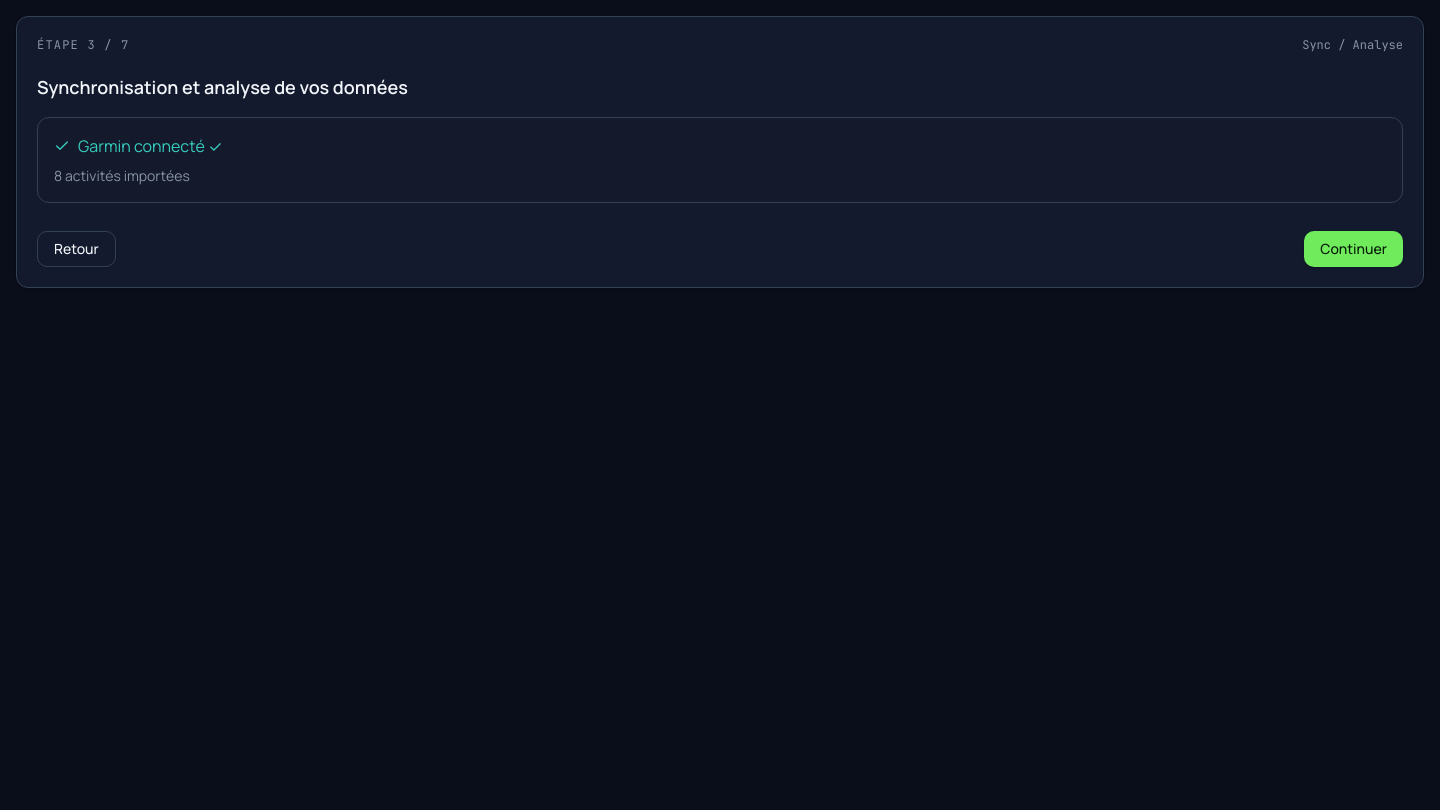
Test: Onboarding trial handoff › french trial status uses localized day countdown
The image size is (1440, 810).
Earlier steps of the test are not shown.
Check: the element with test id "onboarding-step-sync" is shown, box top-left (37, 73), bottom-right (1403, 203)
Click the button with test id "onboarding-continue". click: (1354, 249)
box: top-left (1304, 231), bottom-right (1403, 267)
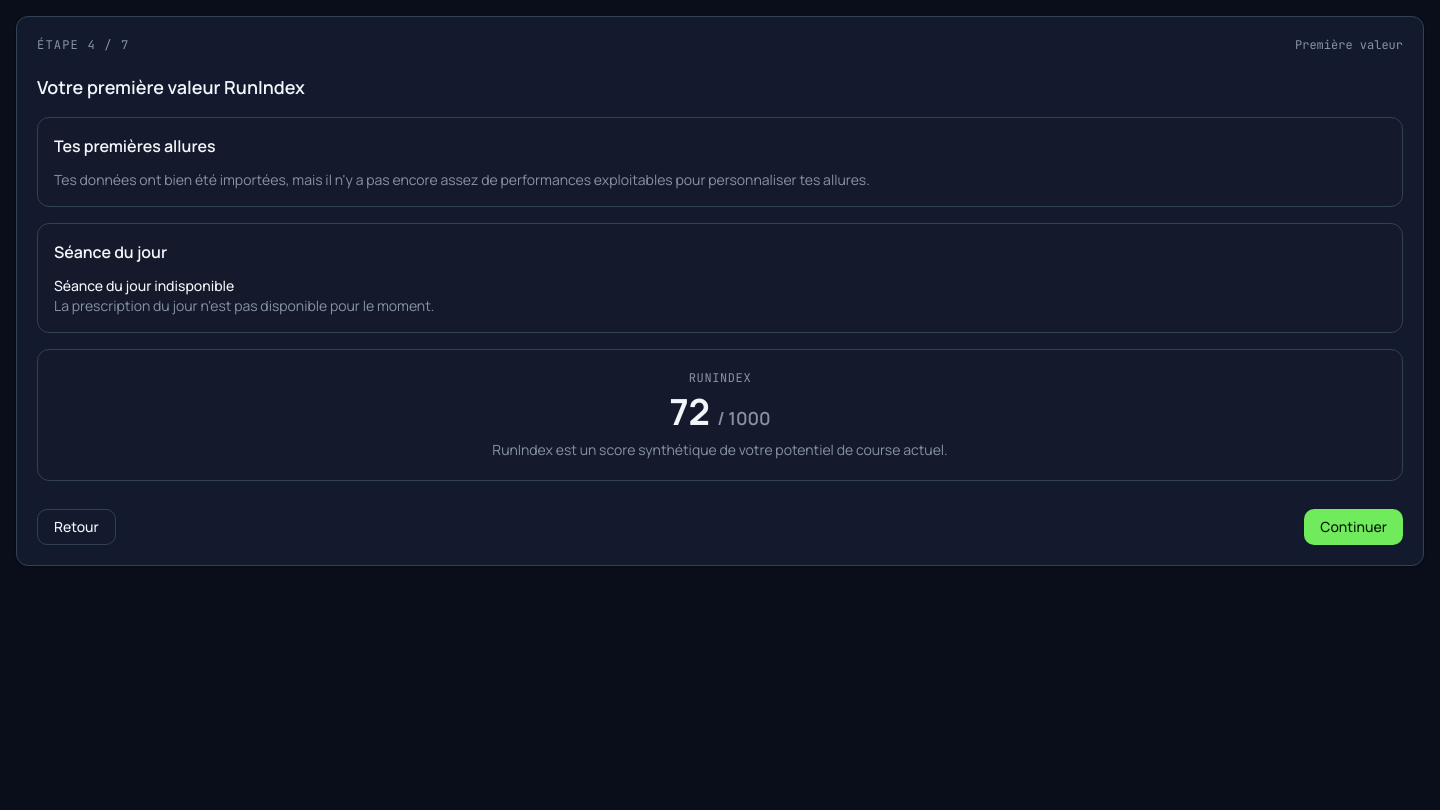
Check: the element with test id "onboarding-step-first-value" is shown, box top-left (37, 73), bottom-right (1403, 481)
Click the button with test id "onboarding-continue". click: (1354, 527)
box: top-left (1304, 509), bottom-right (1403, 545)
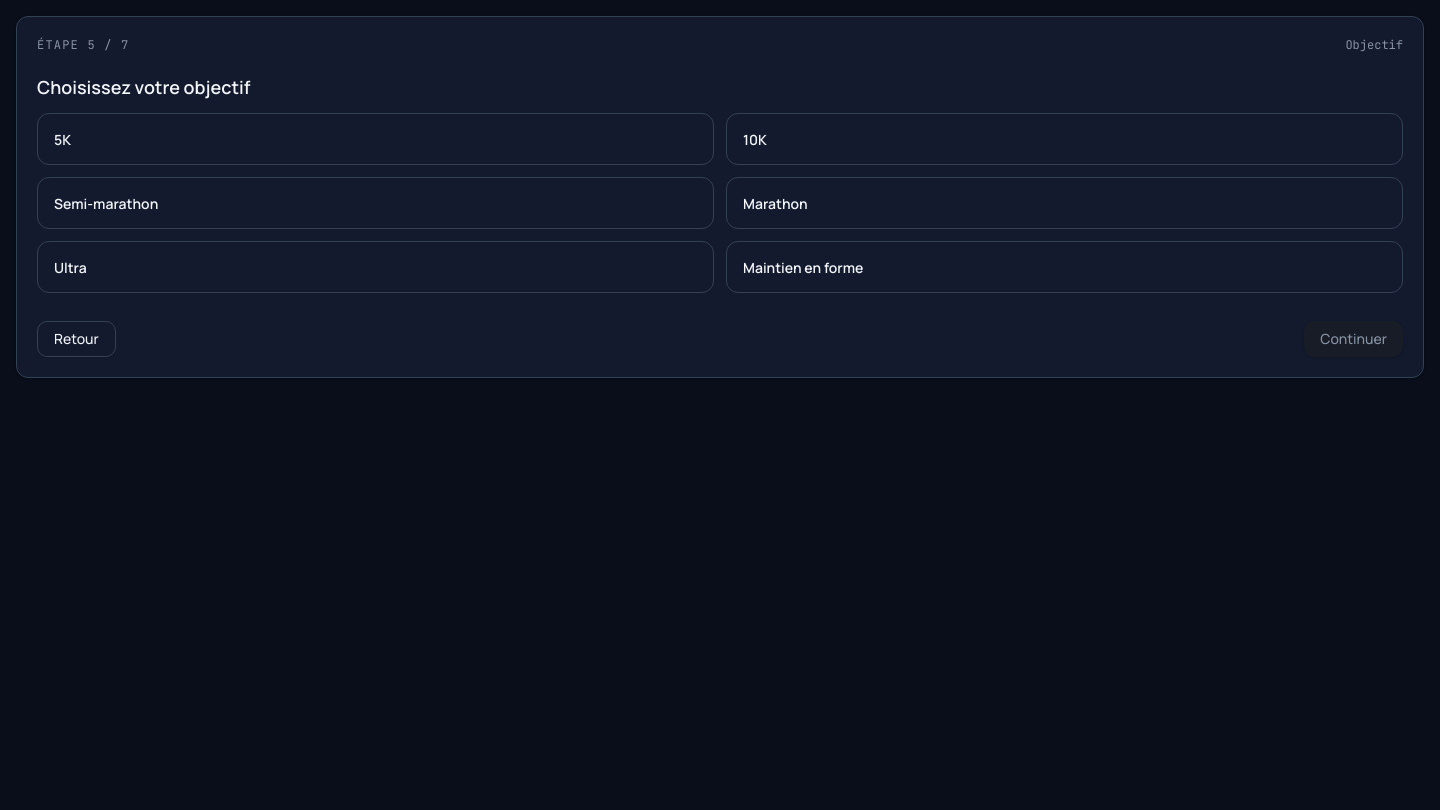
Check: the element with test id "onboarding-step-goal" is shown, box top-left (37, 73), bottom-right (1403, 293)
Click the button with test id "onboarding-goal-5k". click: (62, 140)
box: top-left (37, 113), bottom-right (714, 165)
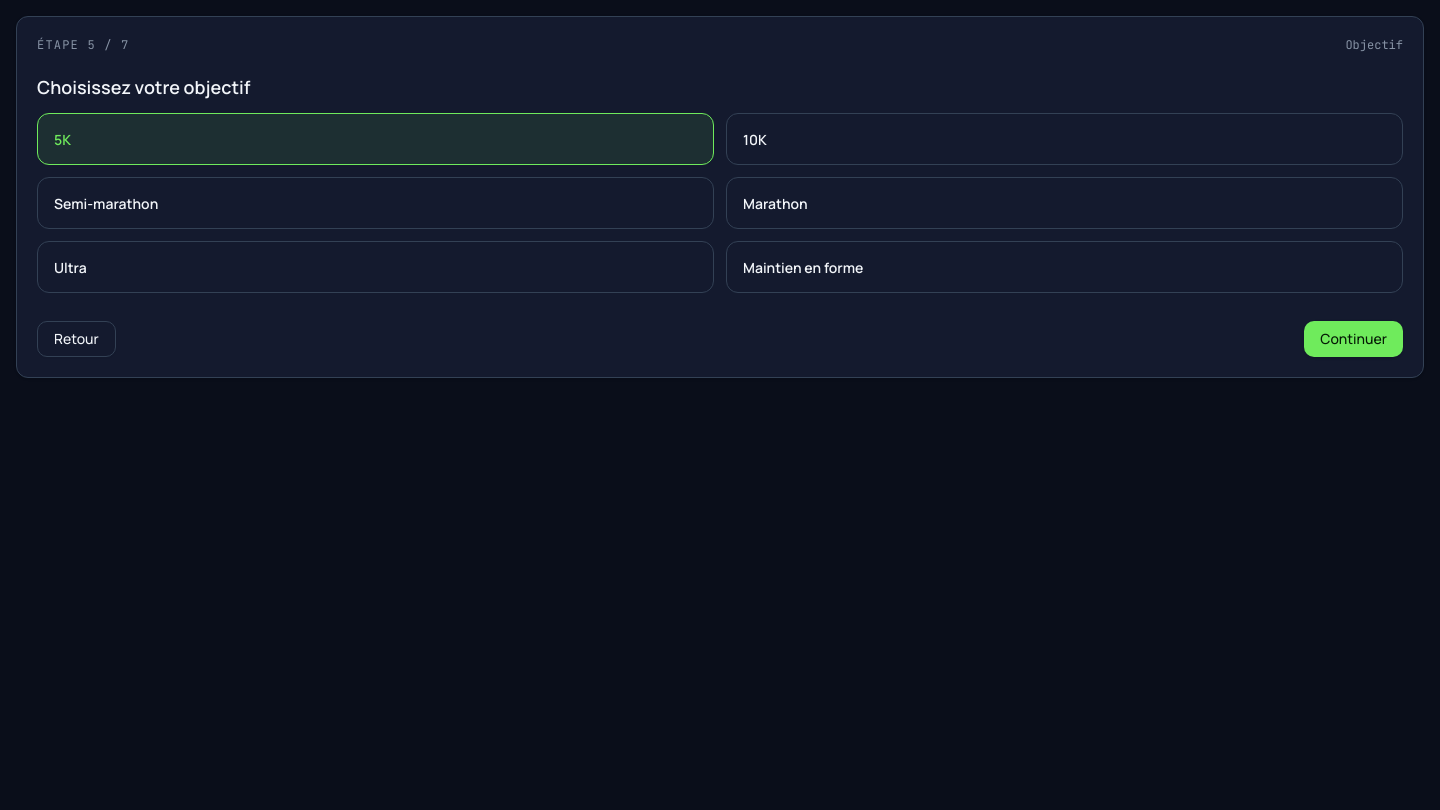
Click the button with test id "onboarding-continue". click: (1354, 339)
box: top-left (1304, 321), bottom-right (1403, 357)
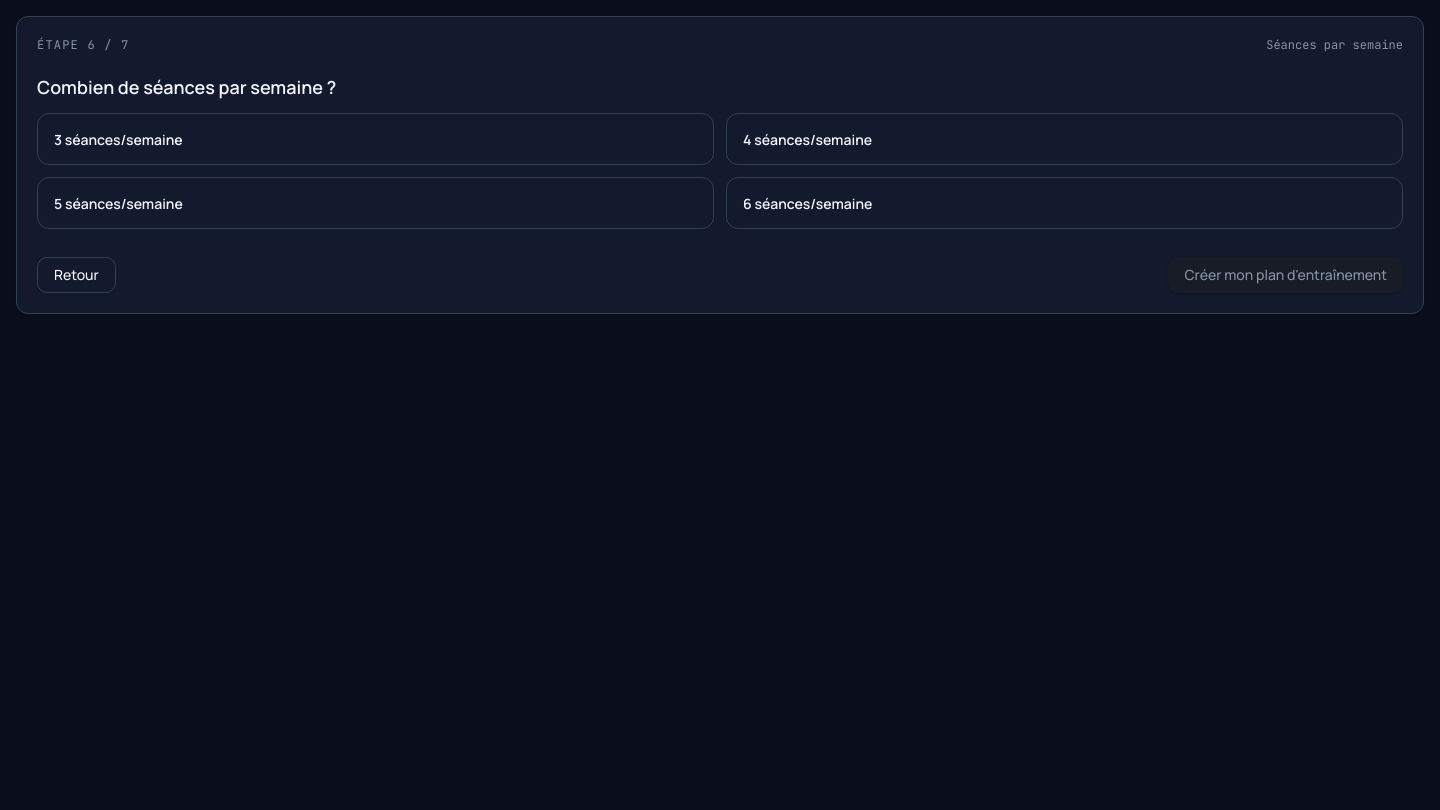
Check: the element with test id "onboarding-step-sessions" is shown, box top-left (37, 73), bottom-right (1403, 229)
Click the button with test id "onboarding-sessions-3". click: (118, 140)
box: top-left (37, 113), bottom-right (714, 165)
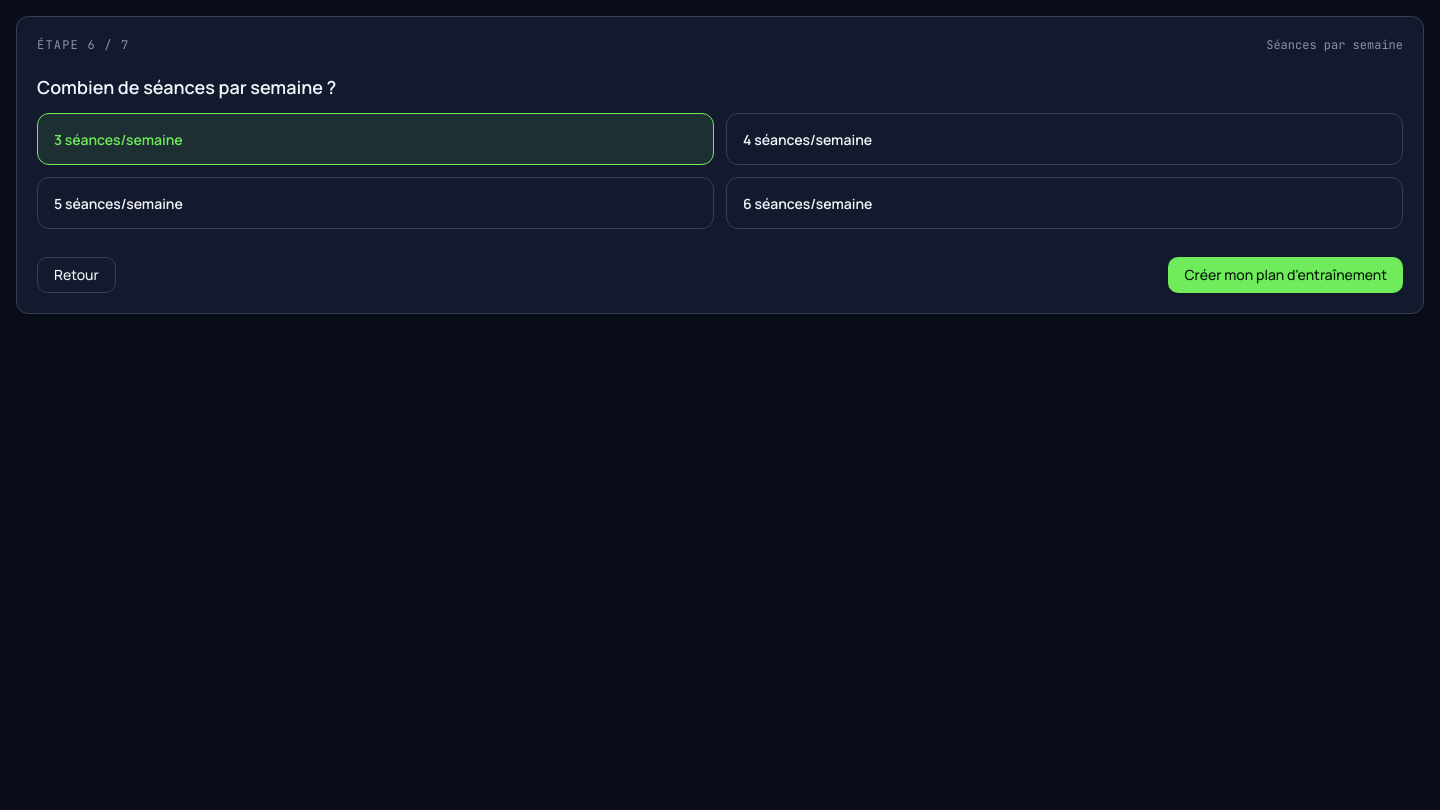
Click the button with test id "onboarding-continue". click: (1286, 275)
box: top-left (1168, 257), bottom-right (1403, 293)
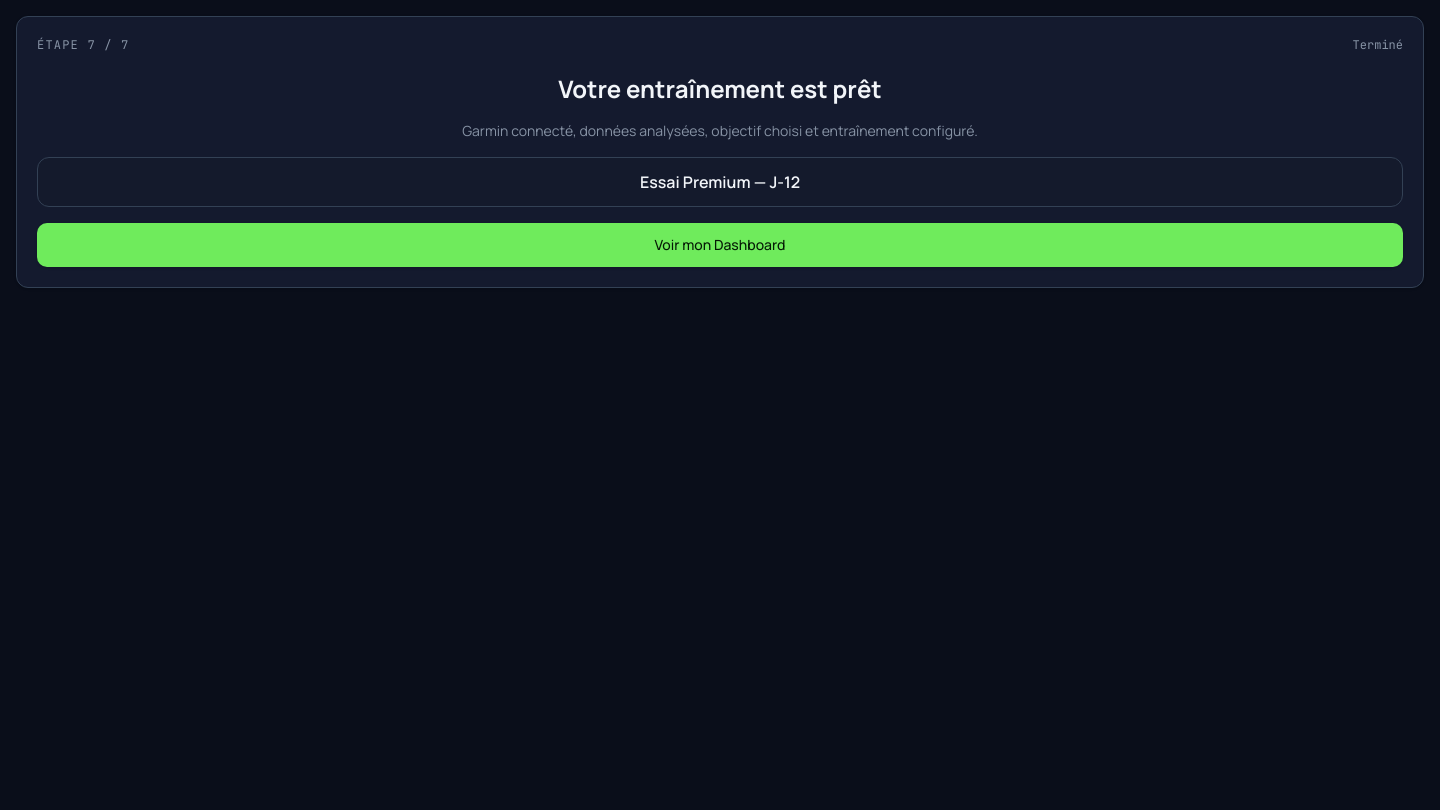
Check: the element with test id "onboarding-step-done" is shown, box top-left (37, 73), bottom-right (1403, 267)
Check: the text with test id "onboarding-subscription-status" reads "Essai Premium — J-12", box top-left (640, 171), bottom-right (800, 193)
